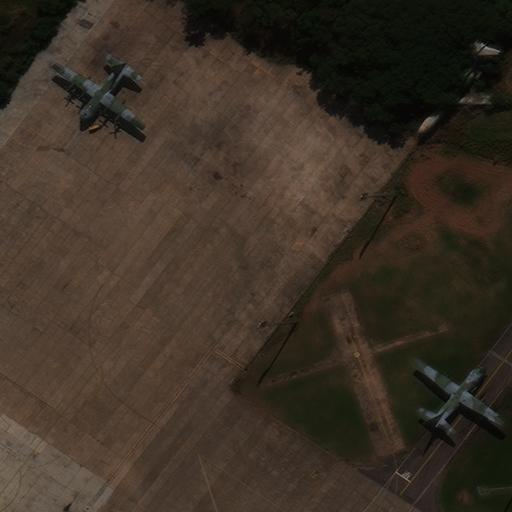Military Transport: (50, 64, 144, 130), (418, 359, 504, 423)
